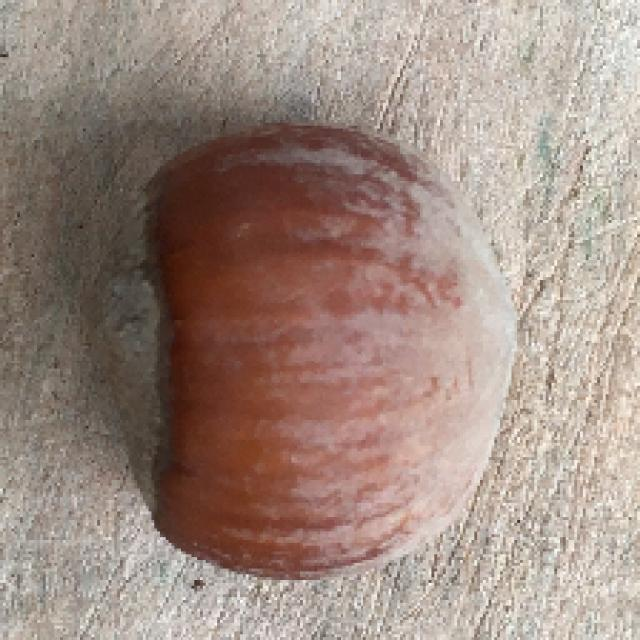qualityHazelnut: (92, 117, 526, 584)
